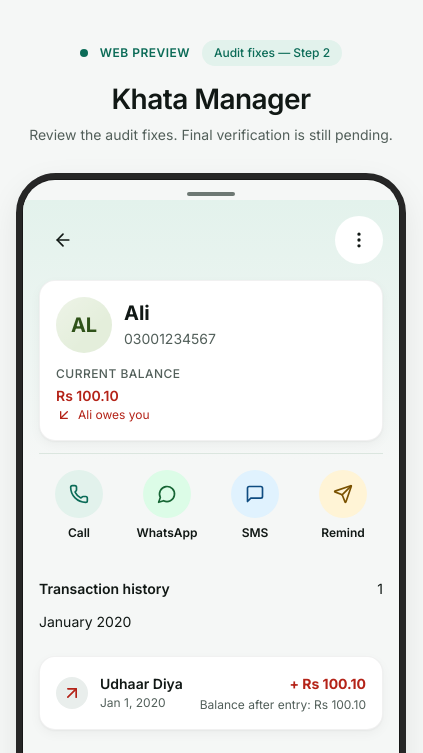
Scenario: complete customer flow › edit keeps transactions and deletion requires confirmation
Later steps or results of the test are not shown.
Step 1. Click the button named "More options" → (359, 240), box [335,216,383,264]
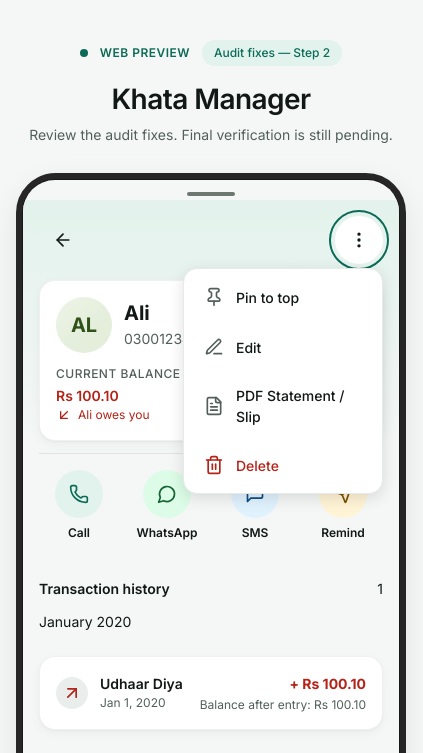
Step 2. Click the link "Edit" → (214, 347), box [204,337,261,357]
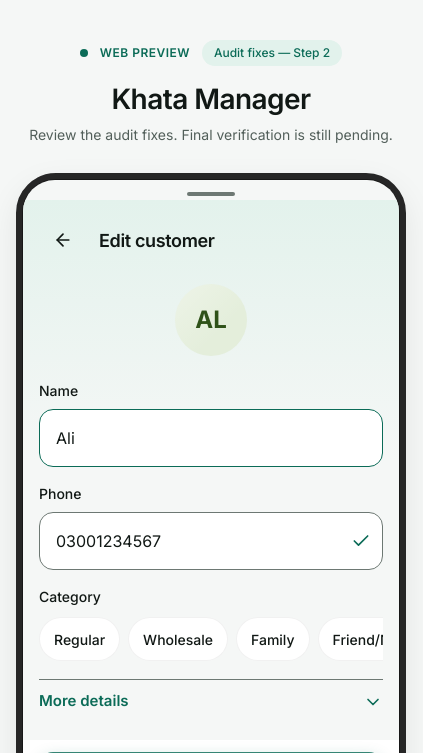
Step 3. Replace the text in the field labelled "Name" with "Ali Khan" → (211, 438), box [39,409,383,467]
(page scrolled)
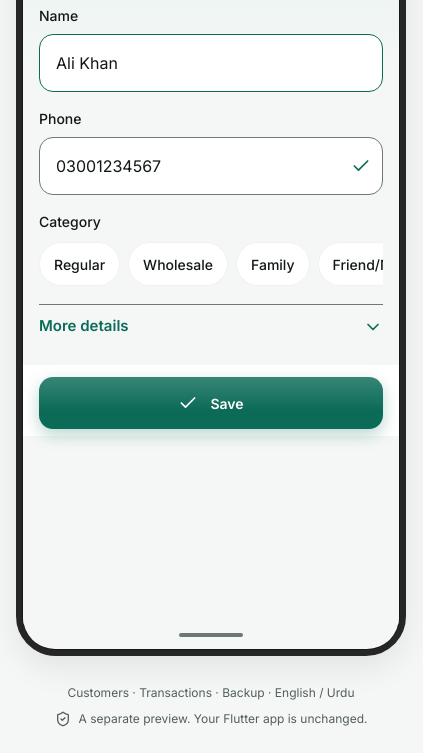
Step 4. Click the button "Save" → (211, 403), box [39,377,383,429]
(page scrolled)
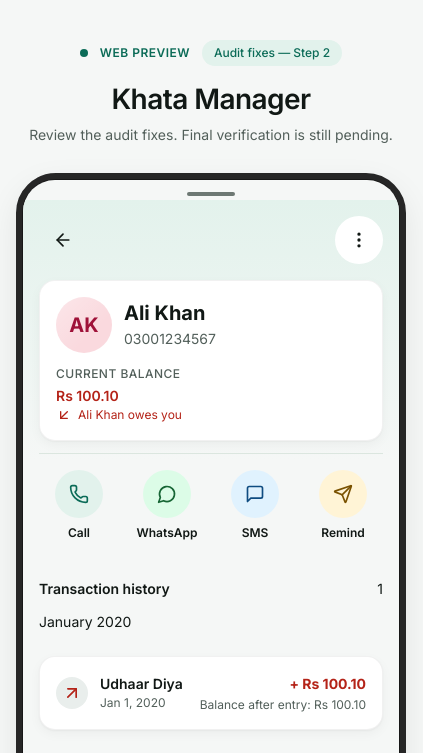
Now the heading "Ali Khan" is shown, box [124,301,205,326]
